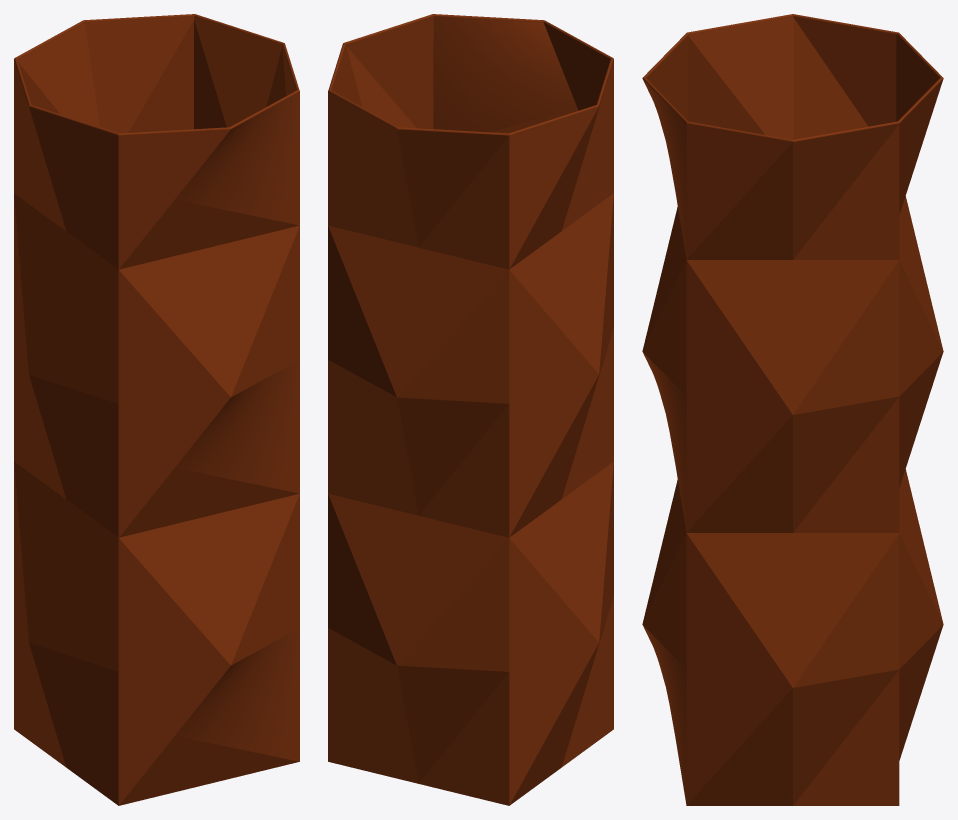
File: NET-4lados-Vaso-Terracota.fbx
3 renders of one model, left to right at view 1: azimuth 30°, elevation 25°; view 2: azimuth 150°, elevation 25°; view 3: azimuth 270°, elevation 25°, orthographic.
Visible parts, largest first — view 1: default; view 2: default; view 3: default.
Boxes of the visible parts, <box> form: default: <box>14,14,299,805</box>; default: <box>328,14,613,805</box>; default: <box>642,14,943,805</box>.
Bounding box in the file's own units: 91.92 × 230 × 91.92.
